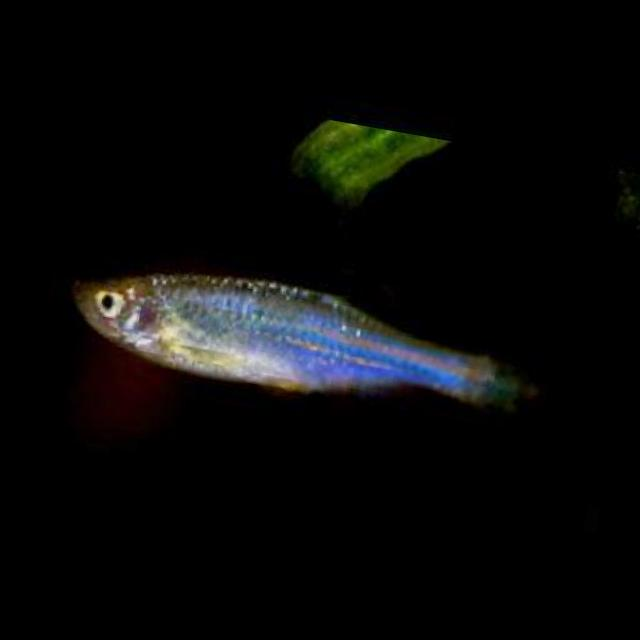ZebraFish: (62, 239, 546, 439)
